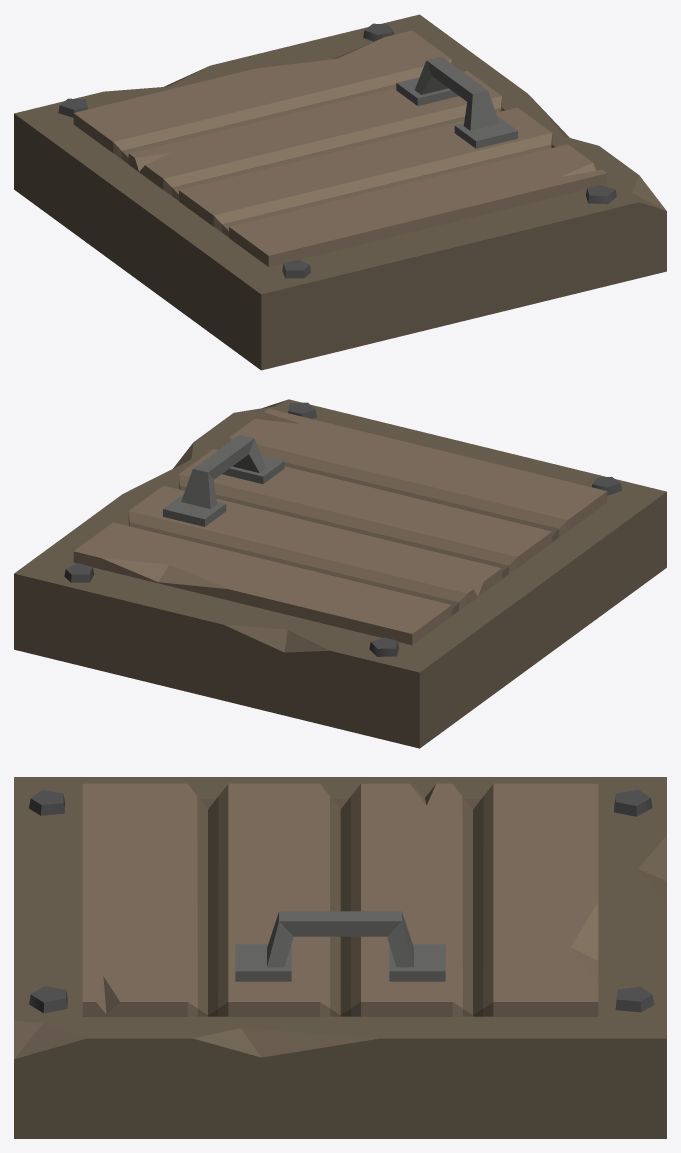
File: SM_Bld_Village_Hatch_01.glb
3 renders of one model, top to bottom at view 1: azimuth 30°, elevation 25°; view 2: azimuth 150°, elevation 25°; view 3: azimuth 270°, elevation 25°, orthographic. The views are drawn at different scales.
Visible parts, largest first — view 1: SM_Bld_Village_Hatch_01; view 2: SM_Bld_Village_Hatch_01; view 3: SM_Bld_Village_Hatch_01.
Boxes of the visible parts, bbox=[...] form: SM_Bld_Village_Hatch_01: bbox=[14, 14, 666, 370]; SM_Bld_Village_Hatch_01: bbox=[14, 399, 666, 748]; SM_Bld_Village_Hatch_01: bbox=[14, 777, 666, 1138].
Size of the model in its own units: 1.62 by 0.5257 by 1.71.
1 material, 1 textured.
